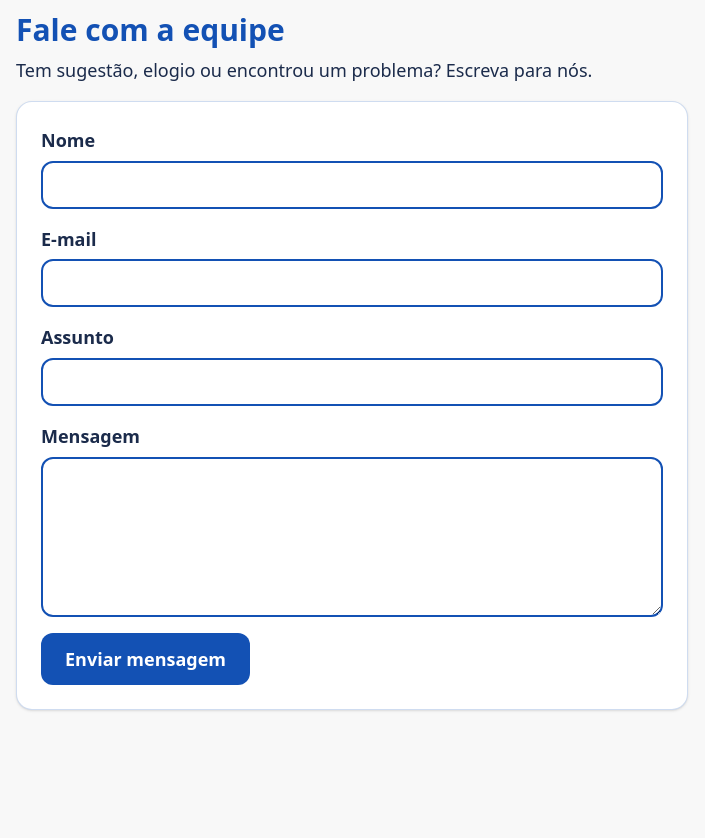
Test case: Contato › formulário válido: mostra mensagem de sucesso honesta (sem fingir envio)
Type "Ana Souza" into the field labelled "Nome" at [352, 185], box [41,161,663,209]
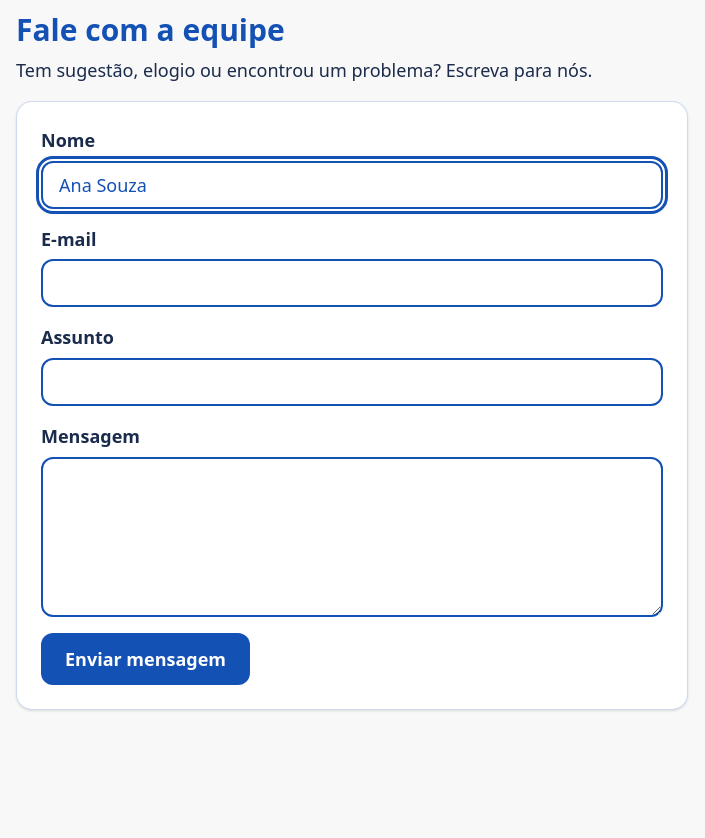
Type "ana@exemplo.com" into the field labelled "E-mail" at [352, 283], box [41,259,663,307]
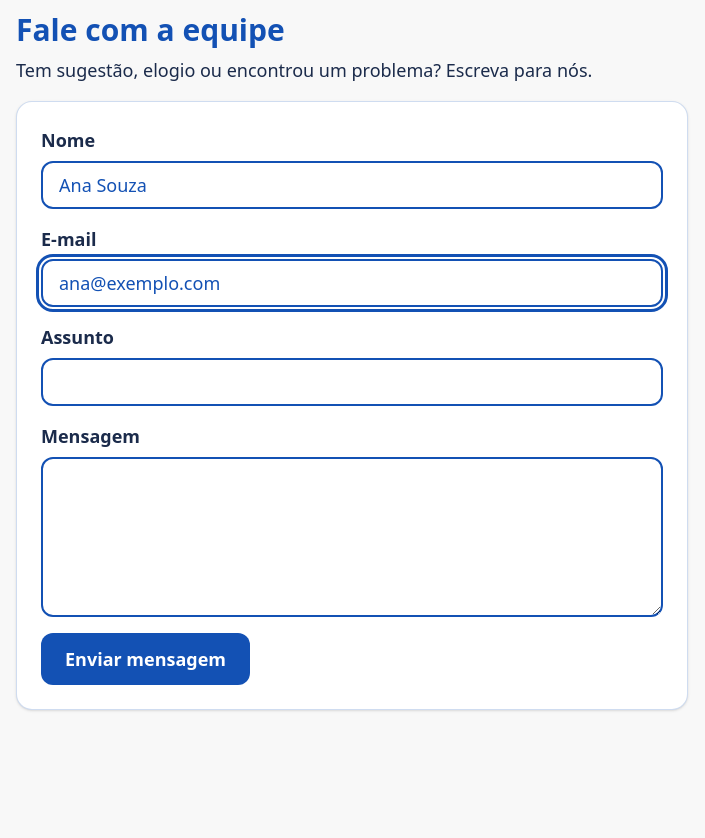
Type "Sugestão" into the field labelled "Assunto" at [352, 382], box [41,358,663,406]
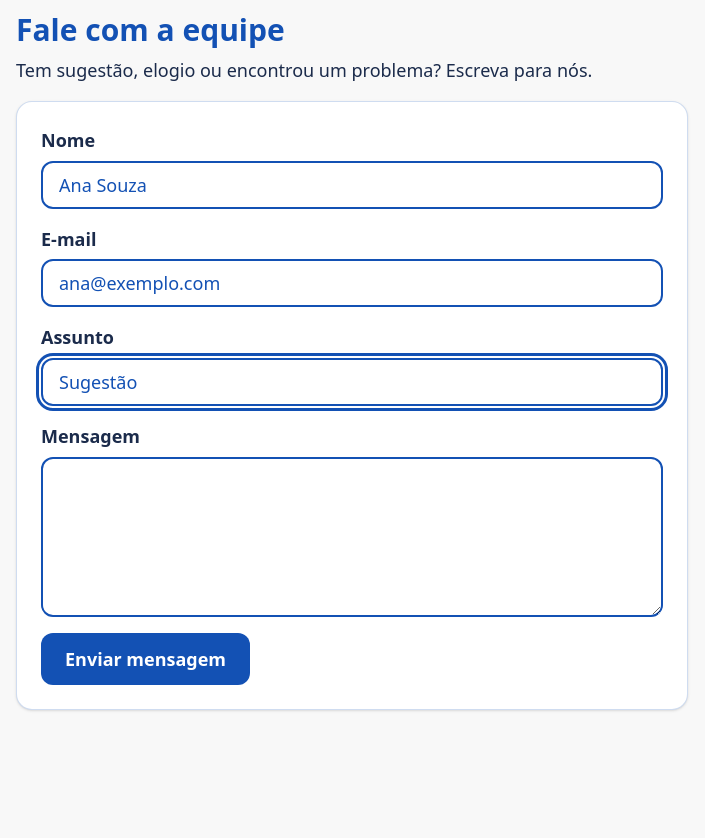
Type "Gostei muito do site, parabéns." into the text box labelled "Mensagem" at [352, 537], box [41,457,663,617]
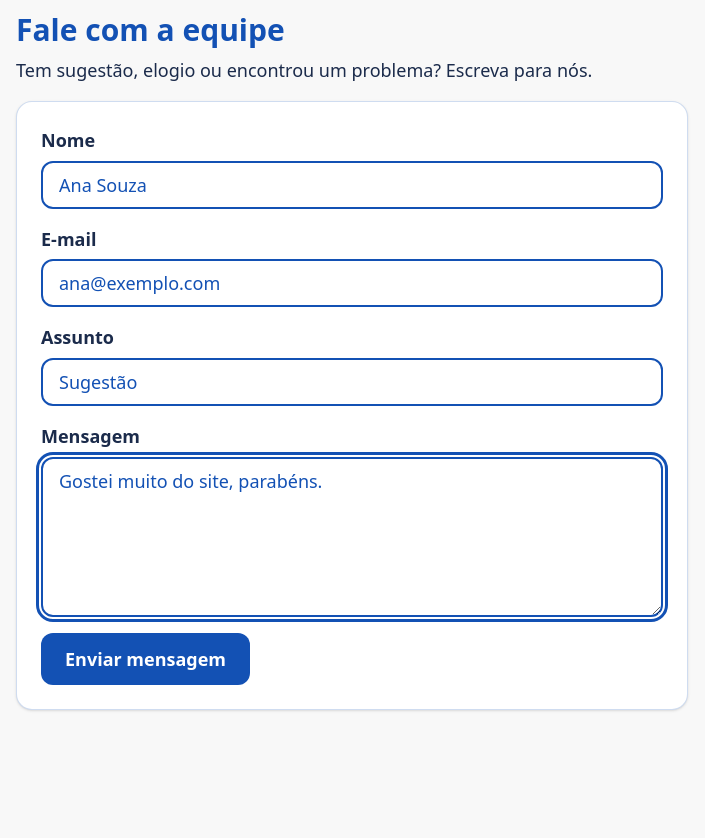
Click the button "Enviar mensagem" at [146, 659], box [41,633,250,685]
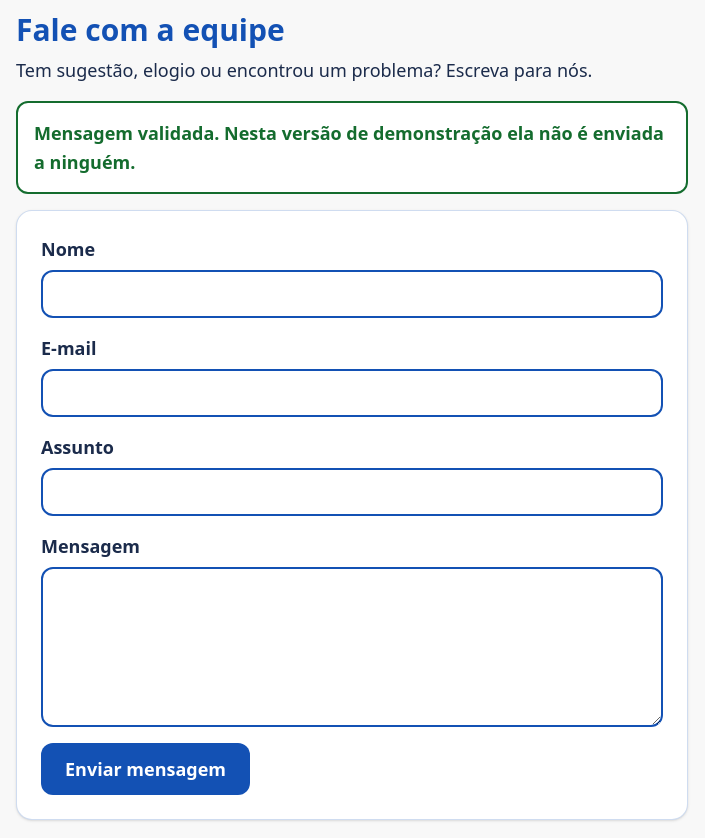
Now the message reads "Mensagem validada. Nesta versão de demonstração ela não é enviada a ninguém.", box [34,121,664,174]
Now the field labelled "Nome" is empty, box [41,270,663,318]
